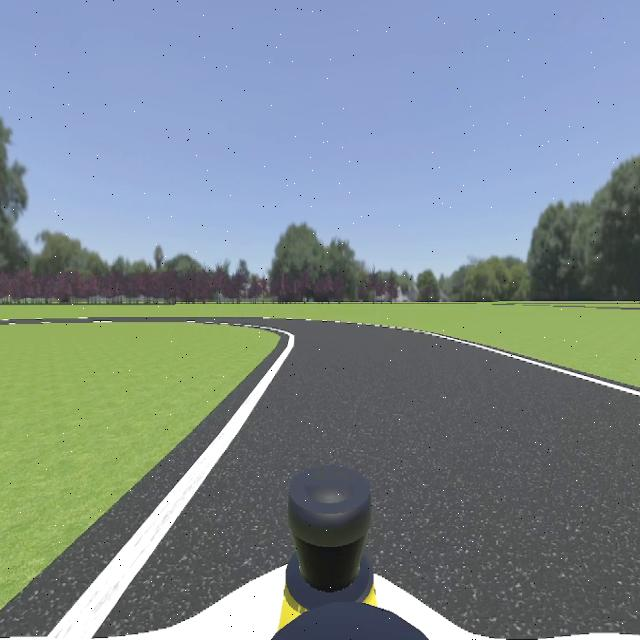road: (96, 323, 640, 638)
solid_line: (50, 334, 295, 639), (402, 329, 640, 398)
